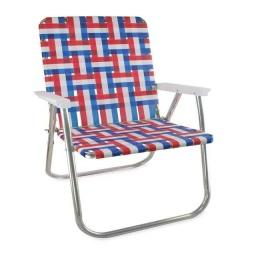Chair: (35, 17, 210, 237)
